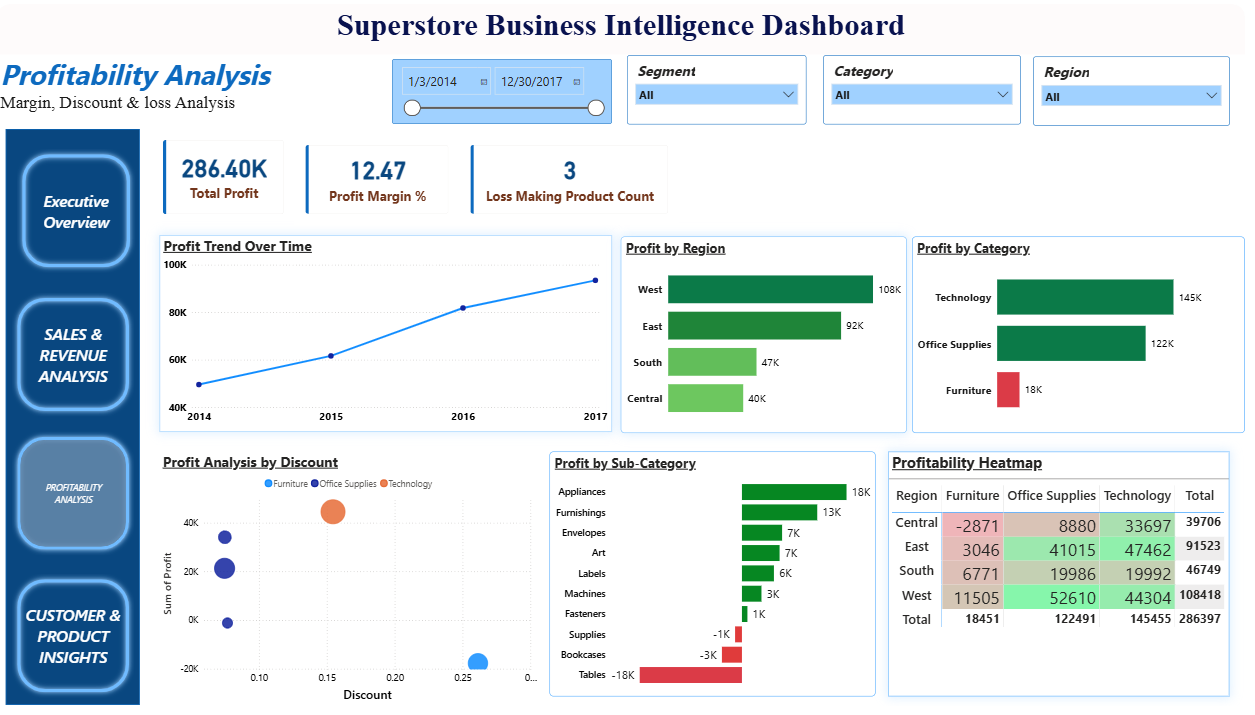

The dashboard page shown, as its layout file describes it:
{"tool":"powerbi","page":{"name":"PROFITABILITY ANALYSIS","canvas":[1920,1080],"ordinal":2},"visuals":[{"type":"cardVisual","fields":{"Data":["cleaned_data.Total Profit"]},"box":[238,192,220,148],"z":0},{"type":"lineChart","title":"Profit Trend Over Time","fields":{"Y":["Sum(cleaned_data.Profit)"],"Category":["cleaned_data.Order Date.Variation.Date Hierarchy.Year","cleaned_data.Order Date.Variation.Date Hierarchy.Month"]},"box":[250,356,696,302],"z":1000},{"type":"clusteredBarChart","title":"Profit by Region","fields":{"Category":["cleaned_data.Region"],"Y":["Sum(cleaned_data.Profit)"]},"box":[960,358,440,302],"z":2000},{"type":"barChart","title":"Profit by Category","fields":{"Category":["cleaned_data.Category"],"Y":["Sum(cleaned_data.Profit)"]},"box":[1408,358,512,302],"z":3000},{"type":"scatterChart","title":"Profit Analysis by Discount","fields":{"Series":["cleaned_data.Category"],"Y":["Sum(cleaned_data.Profit)"],"X":["Avg(cleaned_data.Discount)"],"Category":["cleaned_data.Sub-Category"],"Size":["Sum(cleaned_data.Sales)"]},"box":[250,688,586,390],"z":4000},{"type":"barChart","fields":{"Category":["cleaned_data.Sub-Category"],"Y":["cleaned_data.Total Profit"]},"box":[850,688.5,501.9,376.9],"z":5000},{"type":"pivotTable","title":"Profitability Heatmap ","fields":{"Rows":["cleaned_data.Region"],"Values":["cleaned_data.Total Profit"],"Columns":["cleaned_data.Category"]},"box":[1371.2,688.5,525,376.9],"z":6000},{"type":"cardVisual","fields":{"Data":["cleaned_data.Profit Margin"]},"box":[458,200,254,140],"z":7000},{"type":"cardVisual","fields":{"Data":["cleaned_data.Loss Making Product Count"]},"box":[712,200,338,140],"z":8000},{"type":"textbox","box":[0,68,476,124],"z":9000},{"type":"shape","box":[14,192,206,886],"z":10000},{"type":"pageNavigator","box":[24,876,188,190],"z":11000},{"type":"pageNavigator","box":[24,658,188,190],"z":12000},{"type":"pageNavigator","box":[24,444,188,190],"z":13000},{"type":"pageNavigator","box":[30,224,182,190],"z":14000},{"type":"shape","box":[0,0,1920,78],"z":15000},{"type":"slicer","fields":{"Values":["cleaned_data.Order Date"]},"box":[608,84,338,100],"z":16000},{"type":"slicer","fields":{"Values":["cleaned_data.Segment"]},"box":[970,78,276,106],"z":17000},{"type":"slicer","fields":{"Values":["cleaned_data.Category"]},"box":[1272,78,304,106],"z":18000},{"type":"slicer","fields":{"Values":["cleaned_data.Region"]},"box":[1594,80,302,106],"z":19000}]}

Visuals, with their boxes in screenshot pixels (x1, y1, x2, y2), scaled from the page's 1920x1080 canvas onto the 1255x715 screenshot:
cardVisual - cleaned_data.Total Profit: {"x1": 156, "y1": 127, "x2": 299, "y2": 225}
"Profit Trend Over Time" lineChart: {"x1": 163, "y1": 236, "x2": 618, "y2": 436}
"Profit by Region" clusteredBarChart: {"x1": 628, "y1": 237, "x2": 915, "y2": 437}
"Profit by Category" barChart: {"x1": 920, "y1": 237, "x2": 1254, "y2": 437}
"Profit Analysis by Discount" scatterChart: {"x1": 163, "y1": 455, "x2": 546, "y2": 714}
barChart - cleaned_data.Sub-Category x cleaned_data.Total Profit: {"x1": 556, "y1": 456, "x2": 884, "y2": 705}
"Profitability Heatmap " pivotTable: {"x1": 896, "y1": 456, "x2": 1239, "y2": 705}
cardVisual - cleaned_data.Profit Margin: {"x1": 299, "y1": 132, "x2": 465, "y2": 225}
cardVisual - cleaned_data.Loss Making Product Count: {"x1": 465, "y1": 132, "x2": 686, "y2": 225}
textbox: {"x1": 0, "y1": 45, "x2": 311, "y2": 127}
shape: {"x1": 9, "y1": 127, "x2": 144, "y2": 714}
pageNavigator: {"x1": 16, "y1": 580, "x2": 139, "y2": 706}
pageNavigator: {"x1": 16, "y1": 436, "x2": 139, "y2": 561}
pageNavigator: {"x1": 16, "y1": 294, "x2": 139, "y2": 420}
pageNavigator: {"x1": 20, "y1": 148, "x2": 139, "y2": 274}
shape: {"x1": 0, "y1": 0, "x2": 1254, "y2": 52}
slicer - cleaned_data.Order Date: {"x1": 397, "y1": 56, "x2": 618, "y2": 122}
slicer - cleaned_data.Segment: {"x1": 634, "y1": 52, "x2": 814, "y2": 122}
slicer - cleaned_data.Category: {"x1": 831, "y1": 52, "x2": 1030, "y2": 122}
slicer - cleaned_data.Region: {"x1": 1042, "y1": 53, "x2": 1239, "y2": 123}
